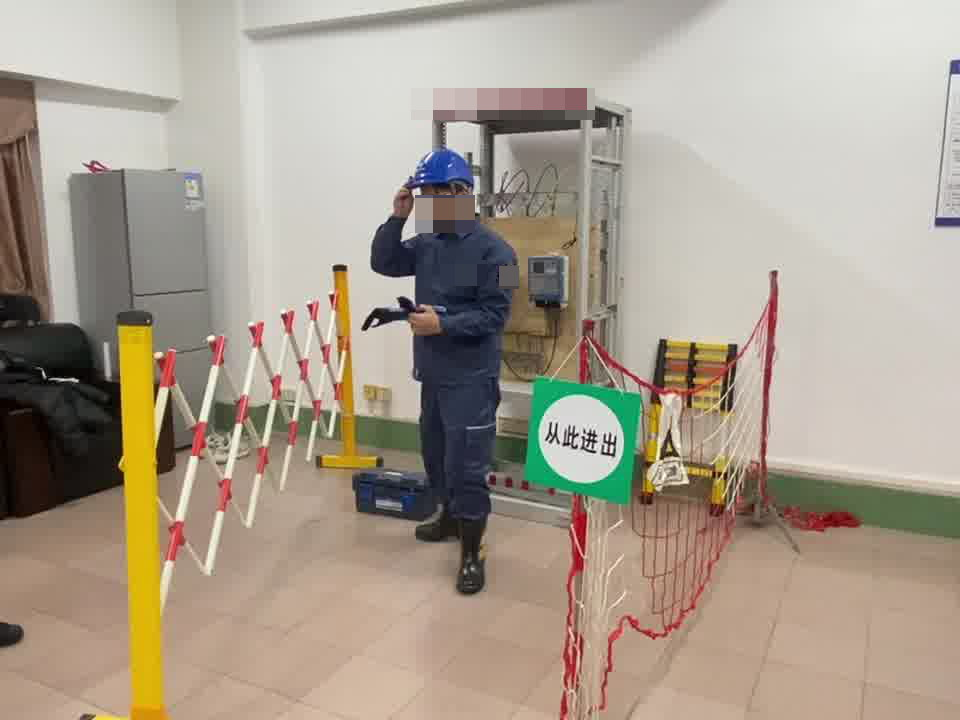downsuit: (416, 391, 502, 526)
halt: (407, 147, 479, 224)
hand: (405, 304, 444, 339), (386, 179, 415, 218)
inear: (447, 180, 471, 210)
intosign: (518, 370, 638, 511)
person: (368, 145, 514, 598)
shoe: (453, 517, 489, 592), (413, 498, 459, 543)
upsuit: (372, 214, 517, 379)
